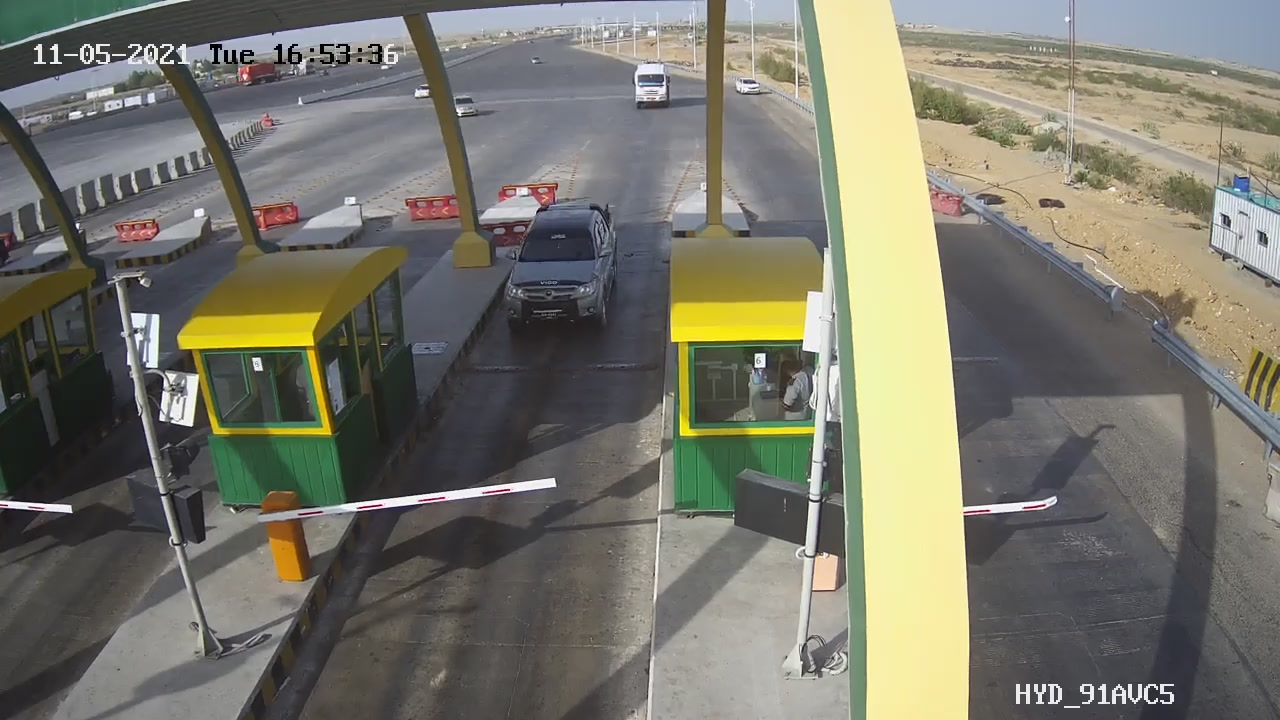F1: (488, 186, 635, 350)
